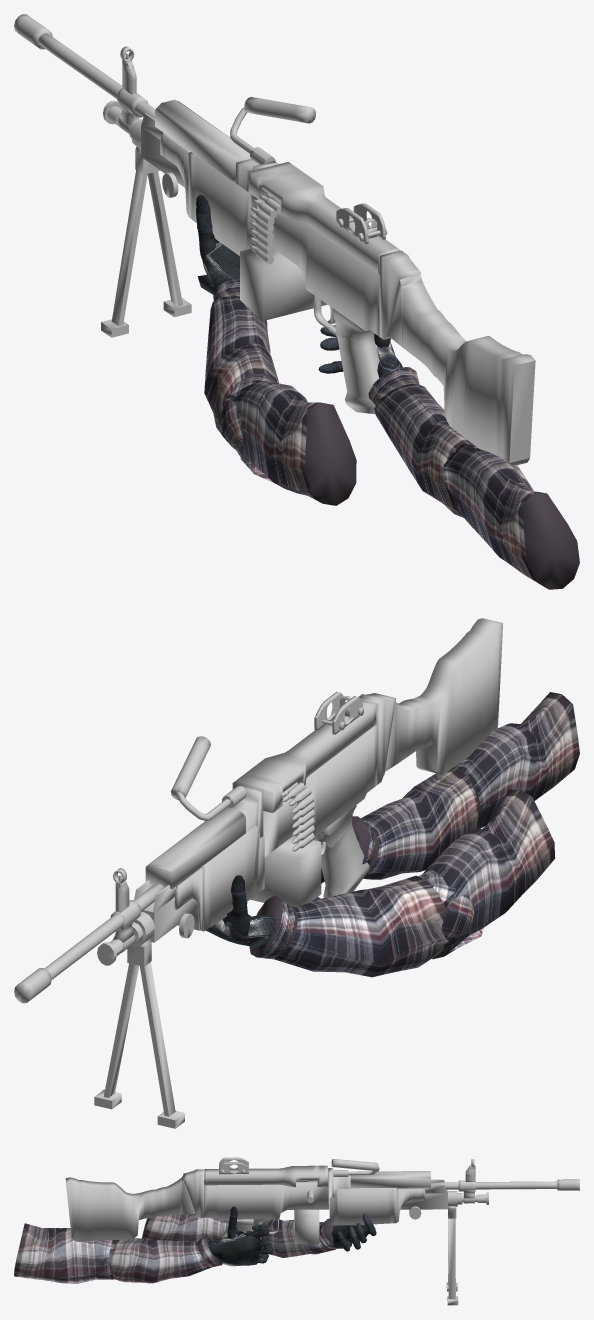
File: m249_view.fbx
3 renders of one model, top to bottom at view 1: azimuth 30°, elevation 25°; view 2: azimuth 150°, elevation 25°; view 3: azimuth 270°, elevation 25°, orthographic. The views are drawn at different scales.
Visible parts, largest first — view 1: larm, m249_stock, rupperarm, m249_body, rforearm, m249_top, m249_grip, m249_bipod, m249_magazine, m249_cooler, m249_pistol_grip, m249_barrel (+6 smaller); view 2: larm, m249_stock, rforearm, rupperarm, m249_body, m249_grip, m249_top, m249_bipod, m249_cooler, m249_magazine, m249_pistol_grip, m249_barrel (+7 smaller); view 3: m249_stock, m249_body, rupperarm, rforearm, larm, m249_grip, m249_top, rhand, m249_cooler, m249_barrel, m249_front, lhand (+7 smaller).
Boxes of the visible parts, box(x1,y1,x2,y2) form: larm: box(204, 279, 356, 505); m249_stock: box(388, 274, 535, 465); rupperarm: box(443, 444, 579, 589); m249_body: box(235, 159, 420, 339); rforearm: box(368, 367, 473, 517); m249_top: box(248, 162, 399, 274); m249_grip: box(160, 134, 256, 255); m249_bipod: box(101, 146, 191, 337); m249_magazine: box(240, 248, 327, 320); m249_cooler: box(155, 99, 250, 181); m249_pistol_grip: box(333, 309, 379, 414); m249_barrel: box(14, 14, 155, 118); larm: box(249, 789, 555, 977); m249_stock: box(385, 618, 502, 774); rforearm: box(352, 767, 483, 879); rupperarm: box(455, 692, 579, 829); m249_body: box(232, 693, 396, 856); m249_grip: box(174, 826, 264, 931); m249_top: box(232, 700, 376, 812); m249_bipod: box(94, 938, 184, 1128); m249_cooler: box(145, 807, 245, 889); m249_magazine: box(250, 835, 321, 906); m249_pistol_grip: box(320, 805, 369, 897); m249_barrel: box(14, 883, 164, 1003); m249_stock: box(65, 1175, 195, 1241); m249_body: box(183, 1168, 351, 1219); rupperarm: box(14, 1223, 114, 1283); rforearm: box(106, 1235, 222, 1283); larm: box(142, 1214, 343, 1257); m249_grip: box(329, 1187, 425, 1225); m249_top: box(204, 1165, 328, 1186); rhand: box(208, 1231, 261, 1265); m249_cooler: box(350, 1171, 430, 1188); m249_barrel: box(431, 1179, 579, 1190); m249_front: box(397, 1179, 447, 1219); lhand: box(327, 1213, 376, 1251).
Size of the model in its own units: 11.13 by 16 by 54.35.
